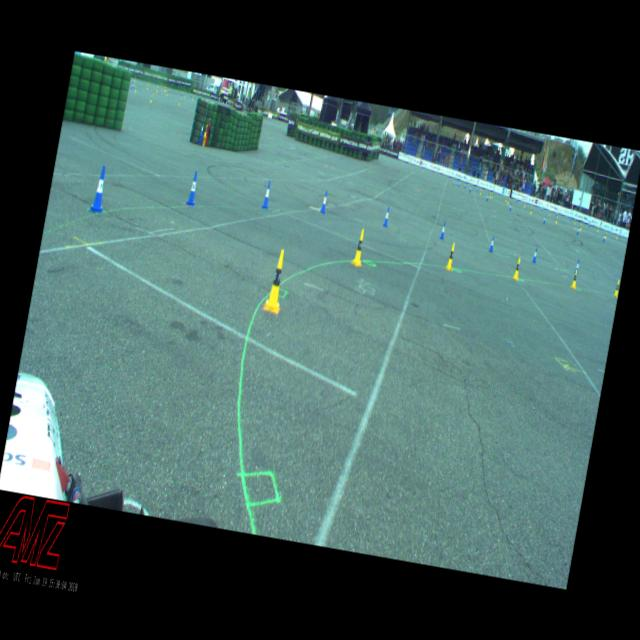blue_cone: (90, 166, 110, 212), (185, 170, 200, 206), (261, 180, 272, 208), (382, 205, 391, 227), (320, 190, 328, 213), (439, 220, 447, 240), (488, 235, 496, 251), (531, 247, 538, 263), (574, 259, 580, 274), (508, 202, 512, 210), (468, 184, 472, 192), (542, 215, 546, 222), (576, 227, 579, 234), (486, 192, 488, 200)
yellow_cone: (262, 248, 288, 312), (352, 227, 368, 266), (445, 242, 457, 272), (512, 256, 521, 280), (570, 268, 578, 288), (613, 278, 620, 296), (578, 223, 582, 230), (506, 196, 509, 204), (134, 85, 137, 92), (555, 216, 558, 223), (178, 98, 181, 104), (491, 192, 494, 198), (530, 206, 532, 214), (150, 94, 152, 102)
